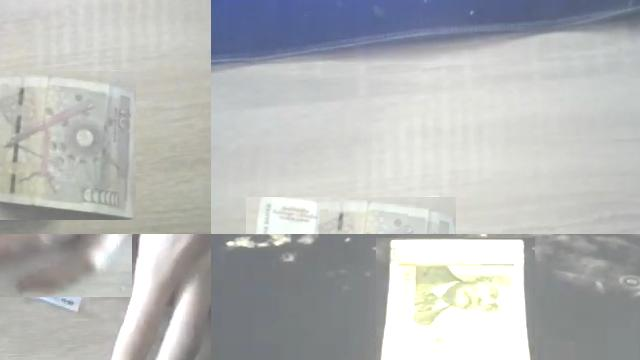10leva: (0, 74, 136, 220), (380, 238, 533, 360), (379, 238, 531, 360), (255, 197, 455, 234)
